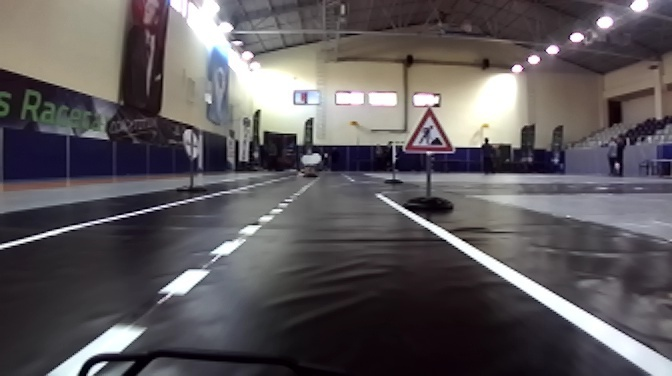yol_yapimi: (403, 109, 454, 152)
